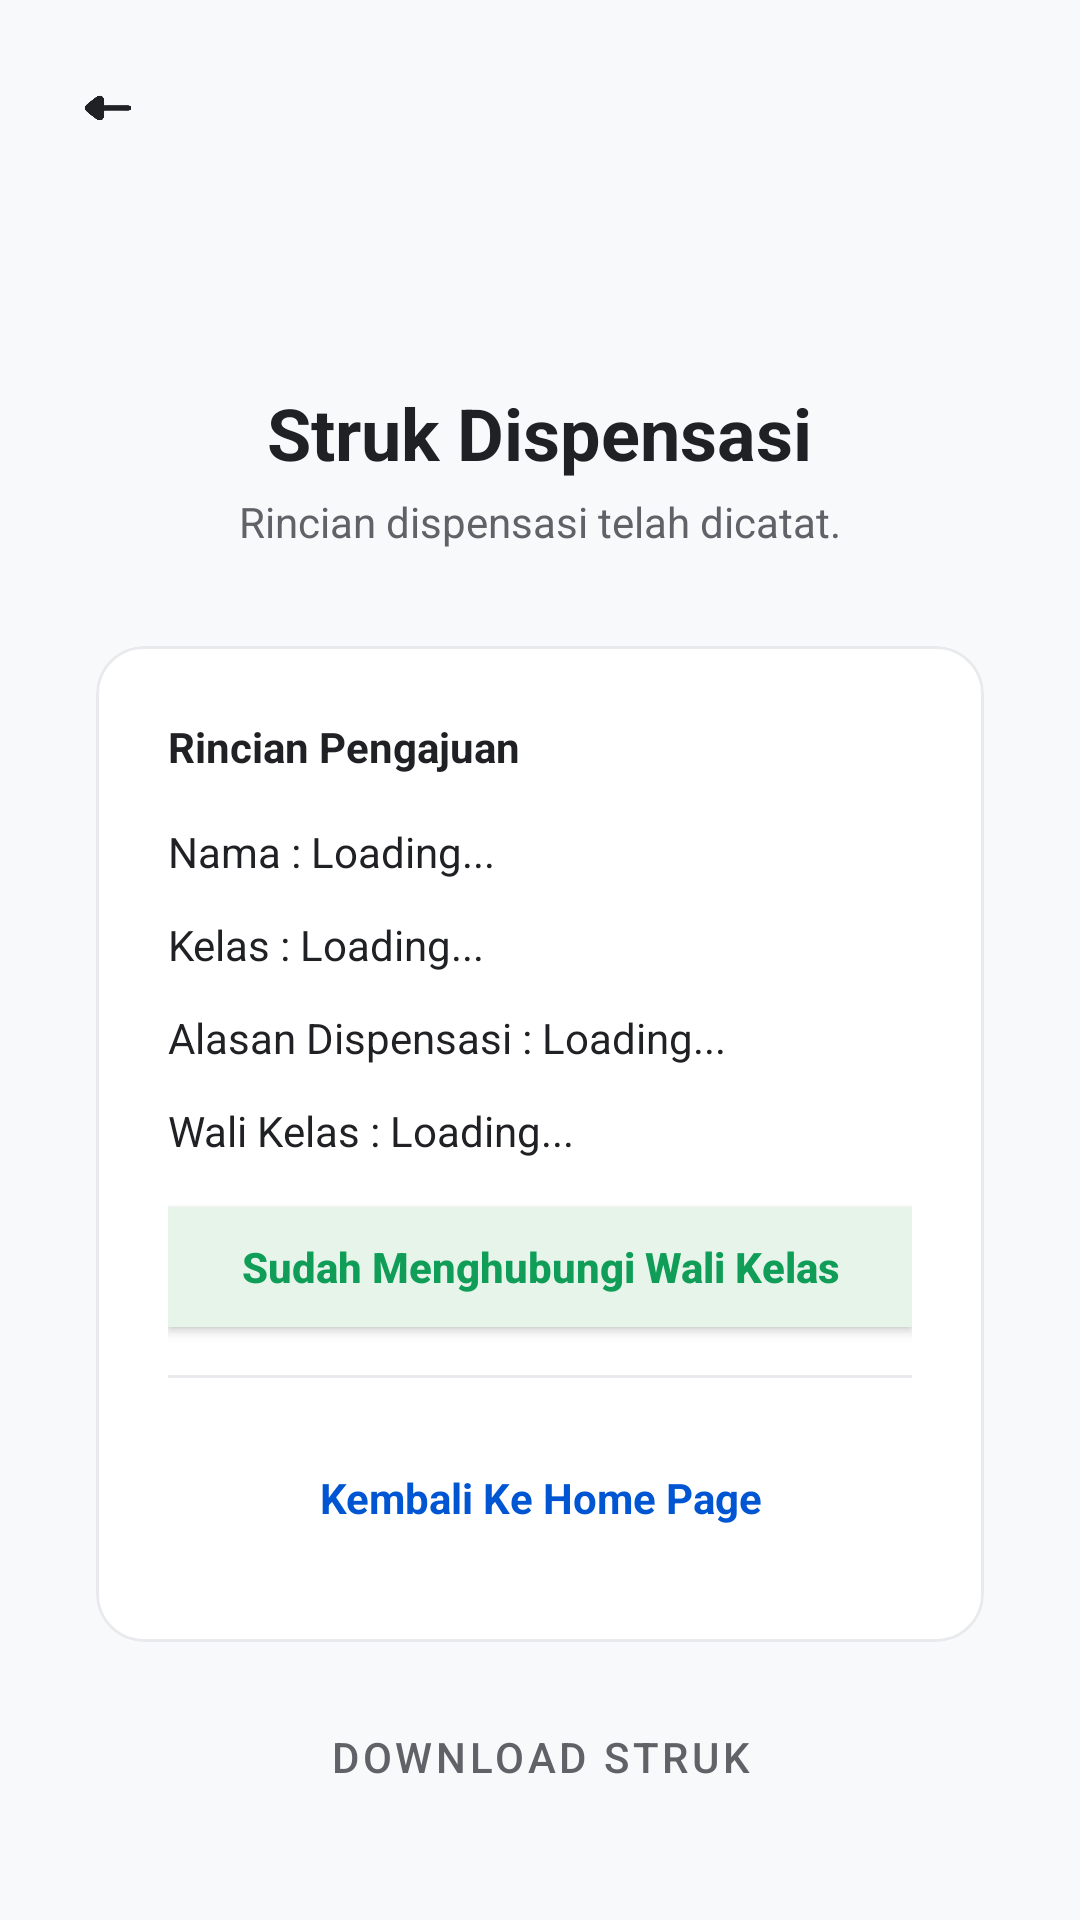

Point at icon controls on the screen. Image size 1080*1920, points as [x,y].
Tombol Kembali: [108,108]
